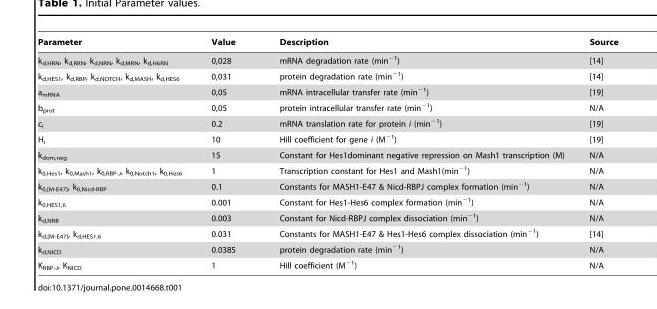table: (37, 37, 617, 270)
table column: (256, 37, 576, 270), (37, 37, 195, 270), (195, 37, 256, 270), (576, 37, 617, 270)
table column header: (37, 37, 617, 50)
table row: (37, 50, 617, 67), (37, 130, 617, 147), (37, 67, 617, 83), (37, 83, 617, 99), (37, 99, 617, 115), (37, 162, 617, 178), (37, 193, 617, 209), (37, 209, 617, 225), (37, 225, 617, 241), (37, 115, 617, 130), (37, 147, 617, 162), (37, 178, 617, 193), (37, 241, 617, 256), (37, 256, 617, 270), (37, 37, 617, 50)
